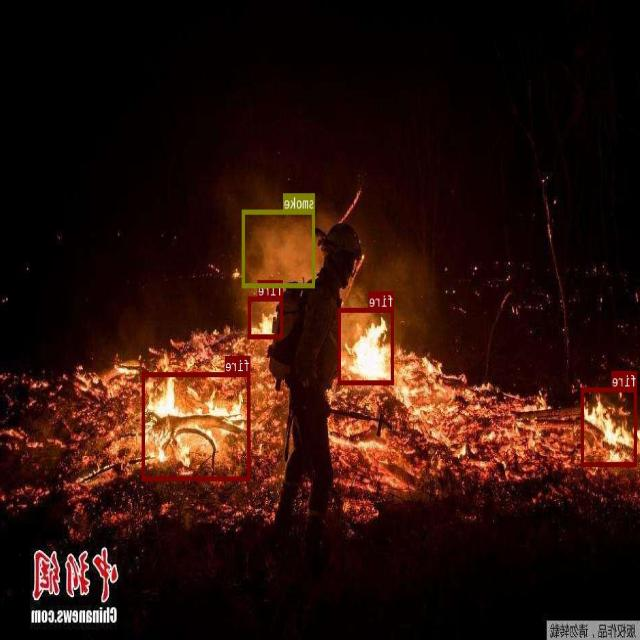fire: (143, 371, 251, 480), (582, 387, 638, 466), (338, 307, 394, 384), (249, 296, 284, 338)
smoke: (243, 210, 315, 288)
